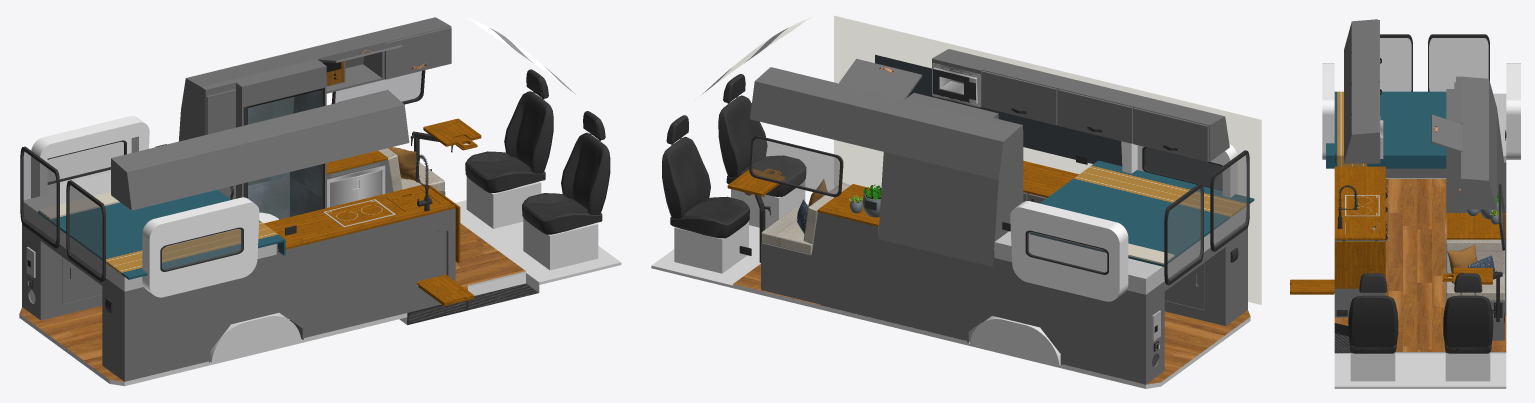
The model's file is floor-plan.glb.
3 views of the same model, side by side, from view 1: azimuth 30°, elevation 25°; view 2: azimuth 150°, elevation 25°; view 3: azimuth 270°, elevation 25° (orthographic). The views are drawn at different scales.
Parts seen in each view (by area): view 1: Geom3D (×43), Geom3D_Component#500, Bedspread, Geom3D_Component#1910, Geom3D_Component#303 (×2), Geom3D_Component#338, Geom3D_Component#1076, Geom3D_Component#2384, Geom3D_Component#1998, Geom3D_Component#2176, Geom3D_Component#333, Geom3D_Component#2 (+6 smaller); view 2: Geom3D (×47), Van shell, Bedspread, Geom3D_Component#500, Geom3D_Component#303 (×2), Geom3D_Component#1674, Geom3D_Component#338, Geom3D_Component#1076, Geom3D_Component#159, Geom3D_Component#1999, Geom3D_Component#2176, Geom3D_Component#335 (+3 smaller); view 3: Geom3D (×41), Bedspread, Geom3D_Component#338, Geom3D_Component#303 (×2), Geom3D_Component#10, Geom3D_Component#335, Geom3D_Component#1603, Geom3D_Component#332, Geom3D_Component#3, Geom3D_Component#159.
Part boxes in pixels (<box>): Geom3D (×43): <box>19,17,610,381</box>; Geom3D_Component#500: <box>126,265,277,381</box>; Bedspread: <box>38,189,285,279</box>; Geom3D_Component#1910: <box>356,209,453,325</box>; Geom3D_Component#303 (×2): <box>466,176,598,270</box>; Geom3D_Component#338: <box>19,200,620,383</box>; Geom3D_Component#1076: <box>210,312,301,362</box>; Geom3D_Component#2384: <box>384,27,451,79</box>; Geom3D_Component#1998: <box>41,242,102,320</box>; Geom3D_Component#2176: <box>102,286,125,381</box>; Geom3D_Component#333: <box>243,66,324,107</box>; Geom3D_Component#2: <box>357,107,407,151</box>; Geom3D (×47): <box>662,58,1250,384</box>; Van shell: <box>695,15,1261,304</box>; Bedspread: <box>1029,160,1254,266</box>; Geom3D_Component#500: <box>993,268,1144,384</box>; Geom3D_Component#303 (×2): <box>674,180,805,273</box>; Geom3D_Component#1674: <box>762,212,820,304</box>; Geom3D_Component#338: <box>652,204,1250,386</box>; Geom3D_Component#1076: <box>970,316,1060,365</box>; Geom3D_Component#159: <box>651,265,1250,388</box>; Geom3D_Component#1999: <box>1164,248,1224,325</box>; Geom3D_Component#2176: <box>1225,231,1247,326</box>; Geom3D_Component#335: <box>890,100,986,135</box>; Geom3D (×41): <box>1290,20,1520,353</box>; Bedspread: <box>1326,91,1446,168</box>; Geom3D_Component#338: <box>1334,352,1506,386</box>; Geom3D_Component#303 (×2): <box>1350,352,1490,381</box>; Geom3D_Component#10: <box>1344,132,1377,163</box>; Geom3D_Component#335: <box>1462,90,1489,125</box>; Geom3D_Component#1603: <box>1385,162,1506,178</box>; Geom3D_Component#332: <box>1447,89,1462,122</box>; Geom3D_Component#3: <box>1351,113,1377,134</box>; Geom3D_Component#159: <box>1334,386,1506,388</box>.
Size of the model in its own units: 5.09 by 2.16 by 2.39.
61 materials, 27 textured.
